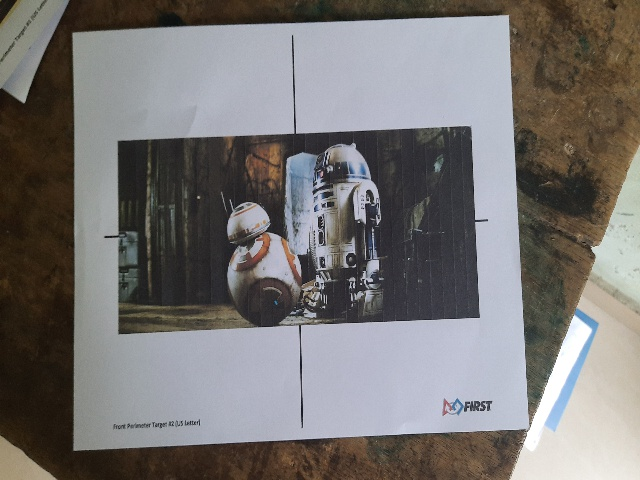fpt2: (86, 51, 503, 430)
